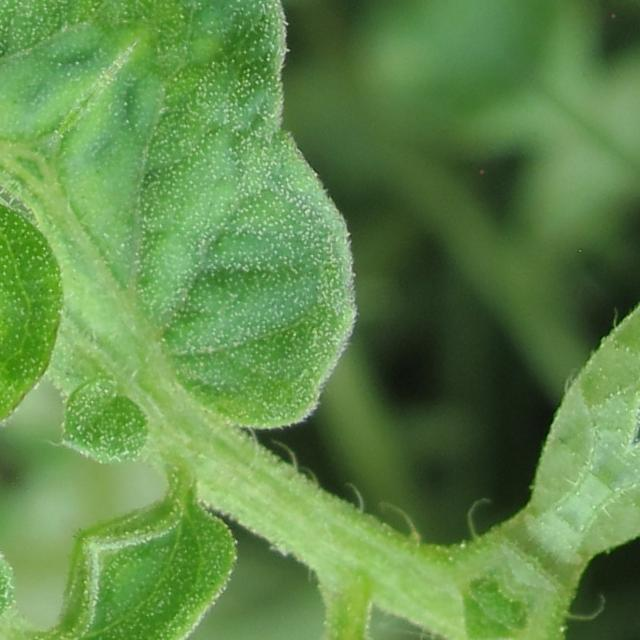Tomato leaf mosaic virus: (0, 0, 595, 623)
